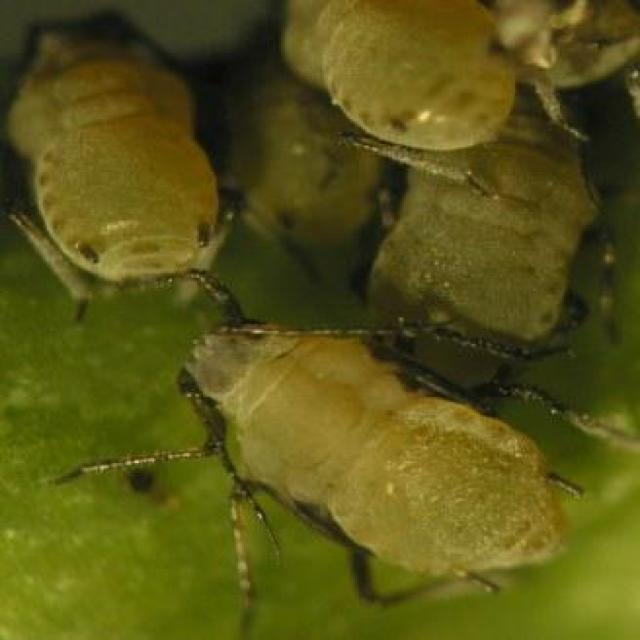aphid: (144, 324, 592, 599), (0, 25, 252, 308), (278, 0, 561, 170)
